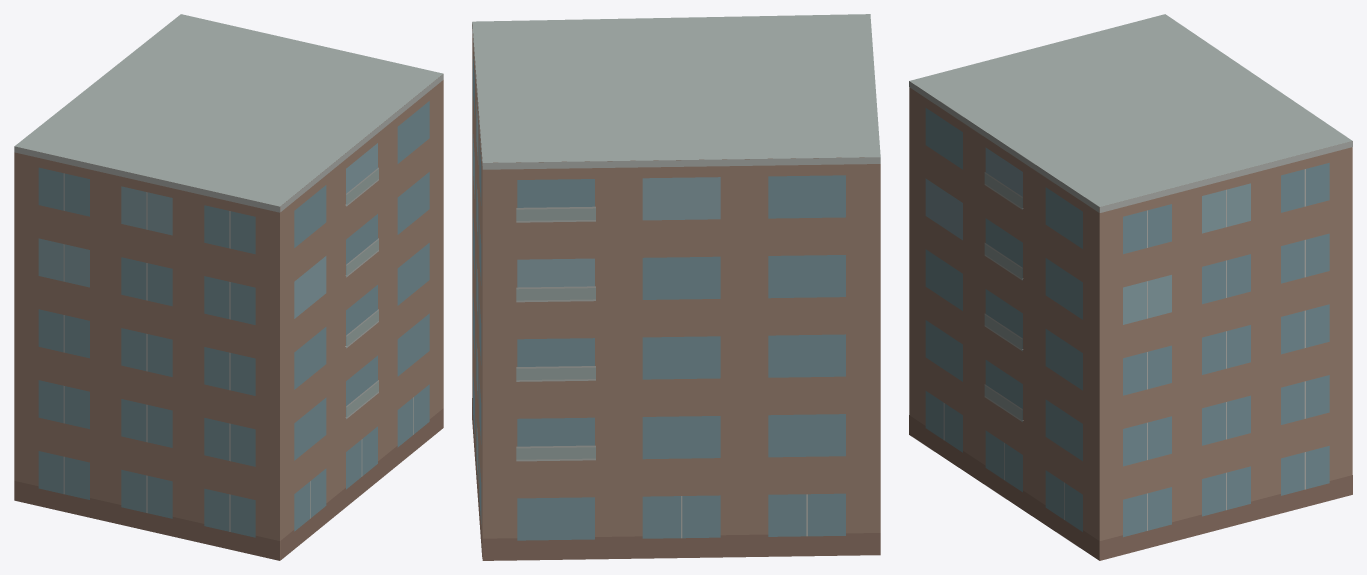
Rendered from survey-upis-32507937.glb.
3 renders of one model, left to right at view 1: azimuth 30°, elevation 25°; view 2: azimuth 150°, elevation 25°; view 3: azimuth 270°, elevation 25°, orthographic. The views are drawn at different scales.
Parts seen in each view (by area): view 1: survey-upis-32507937.tmp; view 2: survey-upis-32507937.tmp; view 3: survey-upis-32507937.tmp.
Boxes of the visible parts, x1=… form: survey-upis-32507937.tmp: x1=14, y1=14, x2=443, y2=560; survey-upis-32507937.tmp: x1=472, y1=14, x2=880, y2=560; survey-upis-32507937.tmp: x1=909, y1=14, x2=1352, y2=560.
Bounding box in the file's own units: 16.7 × 14.25 × 16.21.
